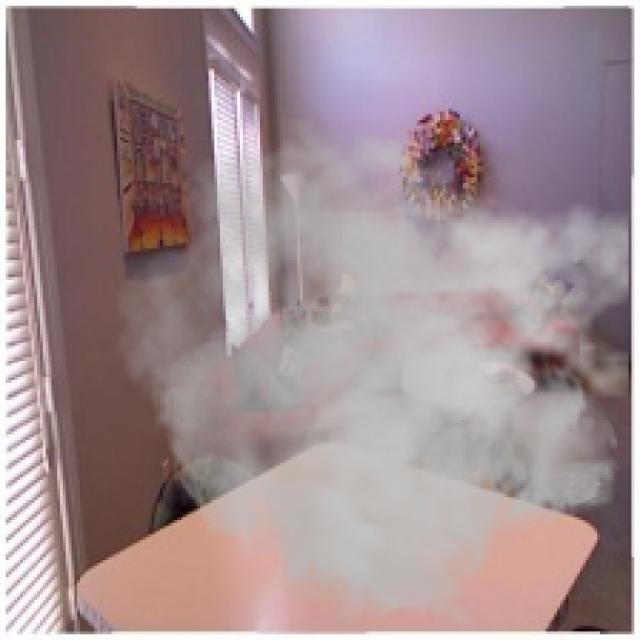smoke: (114, 115, 629, 634)
